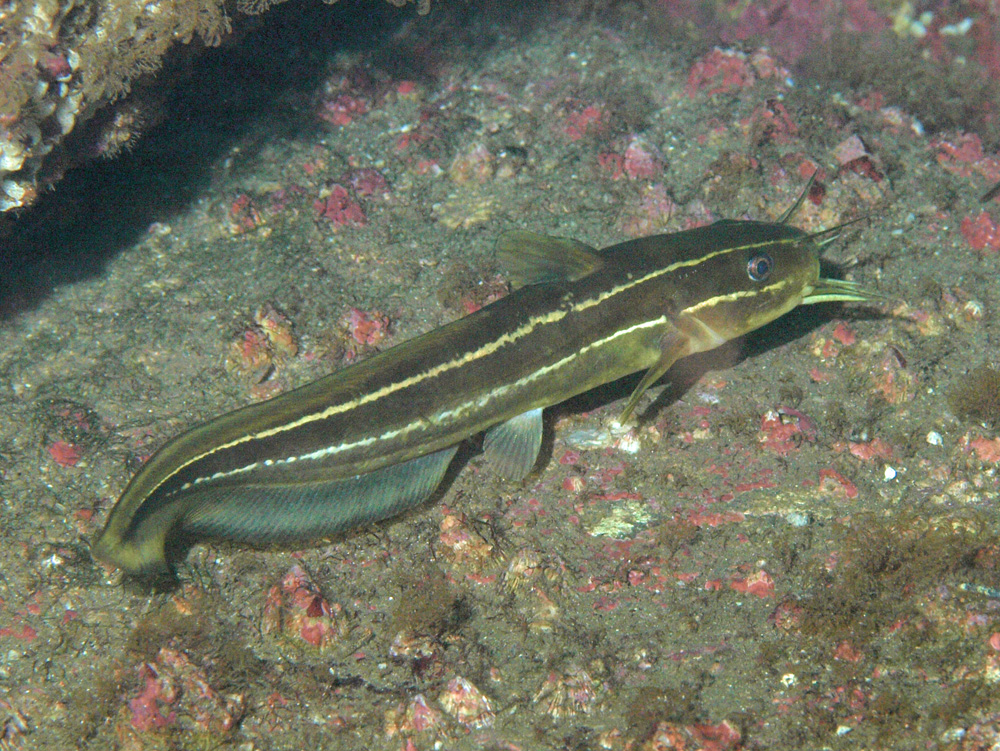gonzui: (59, 189, 894, 589)
